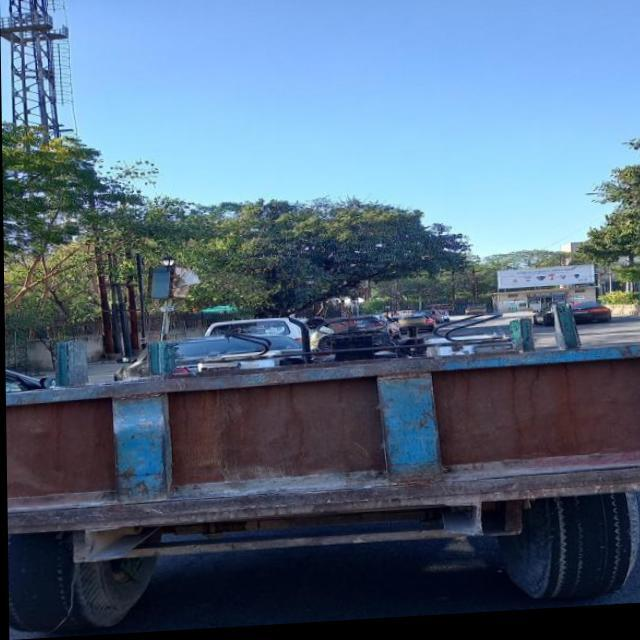uncovered: (4, 294, 640, 632)
